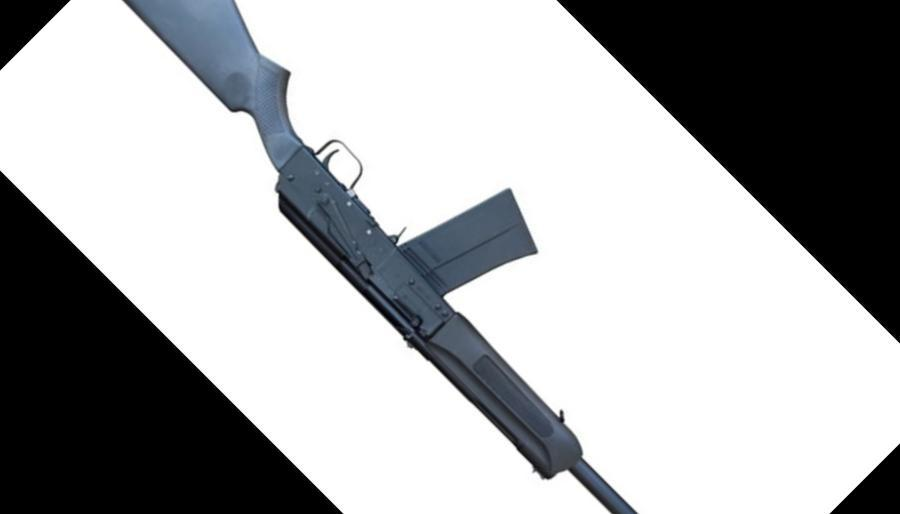larga: (122, 0, 640, 514)
